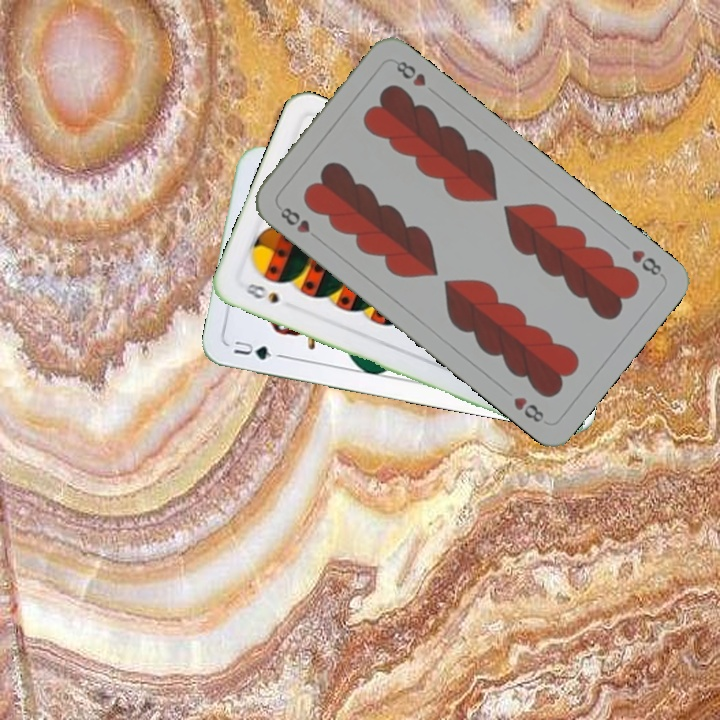GU: (229, 336, 284, 363)
H8: (627, 245, 667, 280), (276, 202, 313, 236)
S8: (241, 279, 282, 306)
